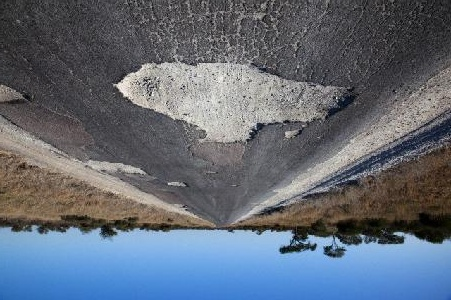pothole: (111, 60, 360, 146), (84, 158, 147, 180), (0, 84, 32, 108), (282, 128, 304, 140), (166, 180, 190, 189)
